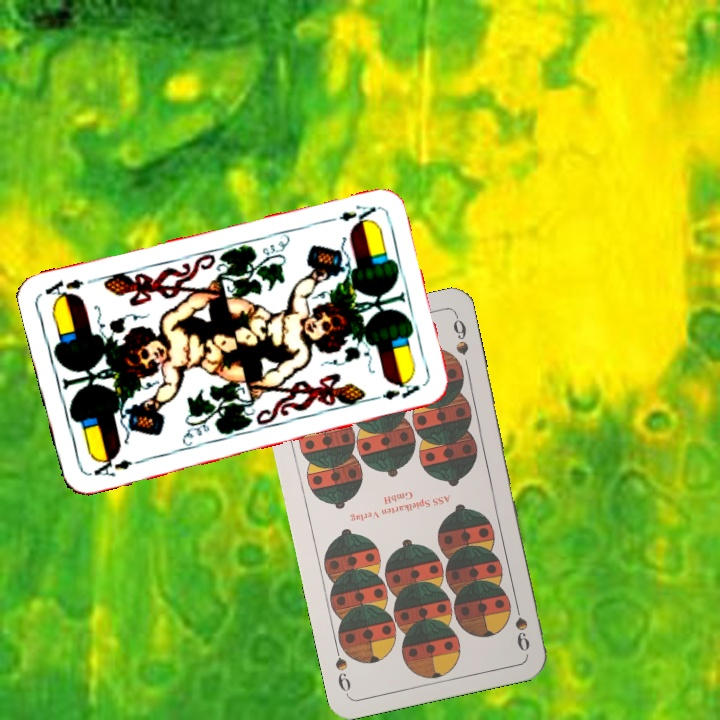EA: (86, 451, 135, 480), (335, 201, 379, 228)
S9: (510, 596, 532, 655)
